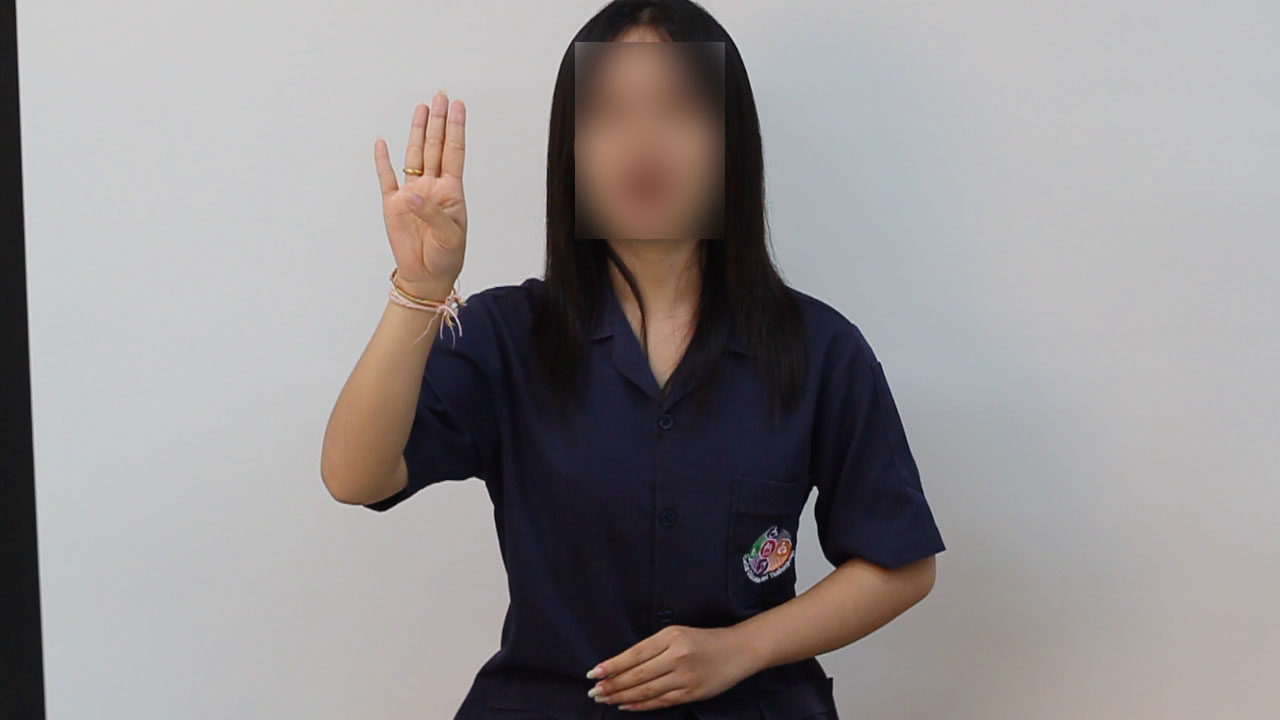bor: (346, 79, 495, 326)
